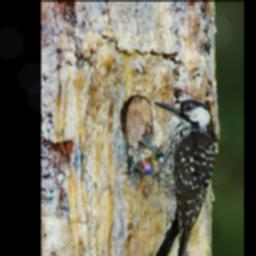Woodpecker: (128, 99, 217, 256)
